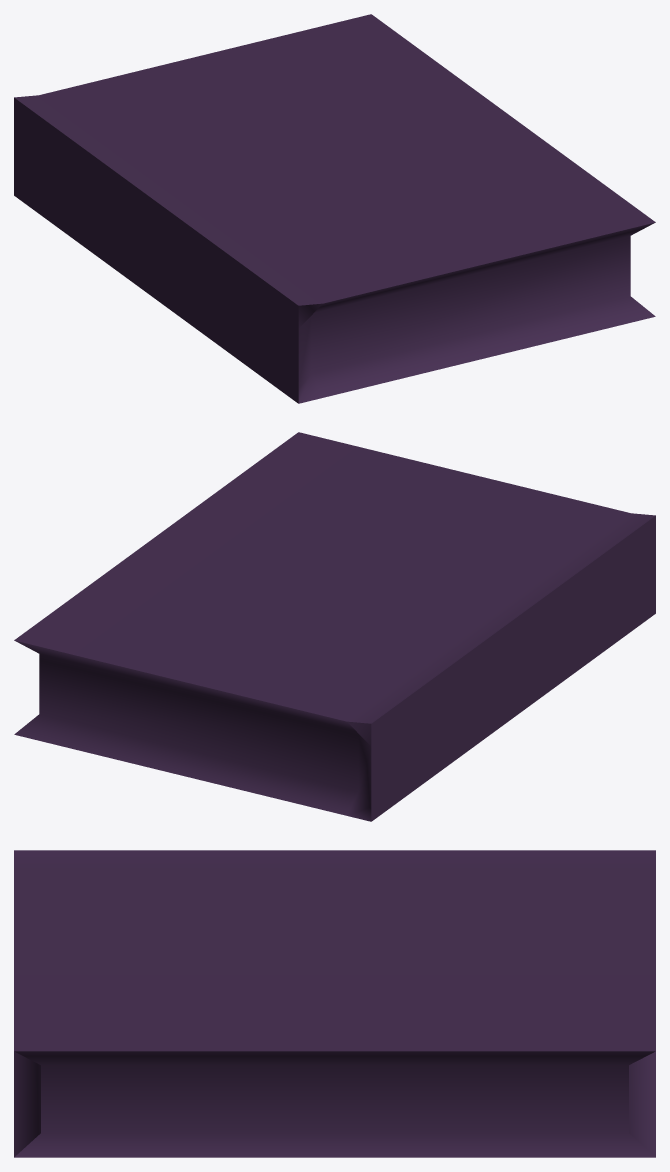
File: DD_10_libraryBook_HENRY.fbx
3 renders of one model, top to bottom at view 1: azimuth 30°, elevation 25°; view 2: azimuth 150°, elevation 25°; view 3: azimuth 270°, elevation 25°, orthographic. The views are drawn at different scales.
Visible parts, largest first — view 1: DD_10_libraryBook; view 2: DD_10_libraryBook; view 3: DD_10_libraryBook.
Boxes of the visible parts, box(x1,y1,x2,y2) form: DD_10_libraryBook: box(14, 14, 655, 403); DD_10_libraryBook: box(14, 432, 655, 821); DD_10_libraryBook: box(14, 850, 655, 1157).
Size of the model in its own units: 3.19 by 0.8361 by 4.4.
